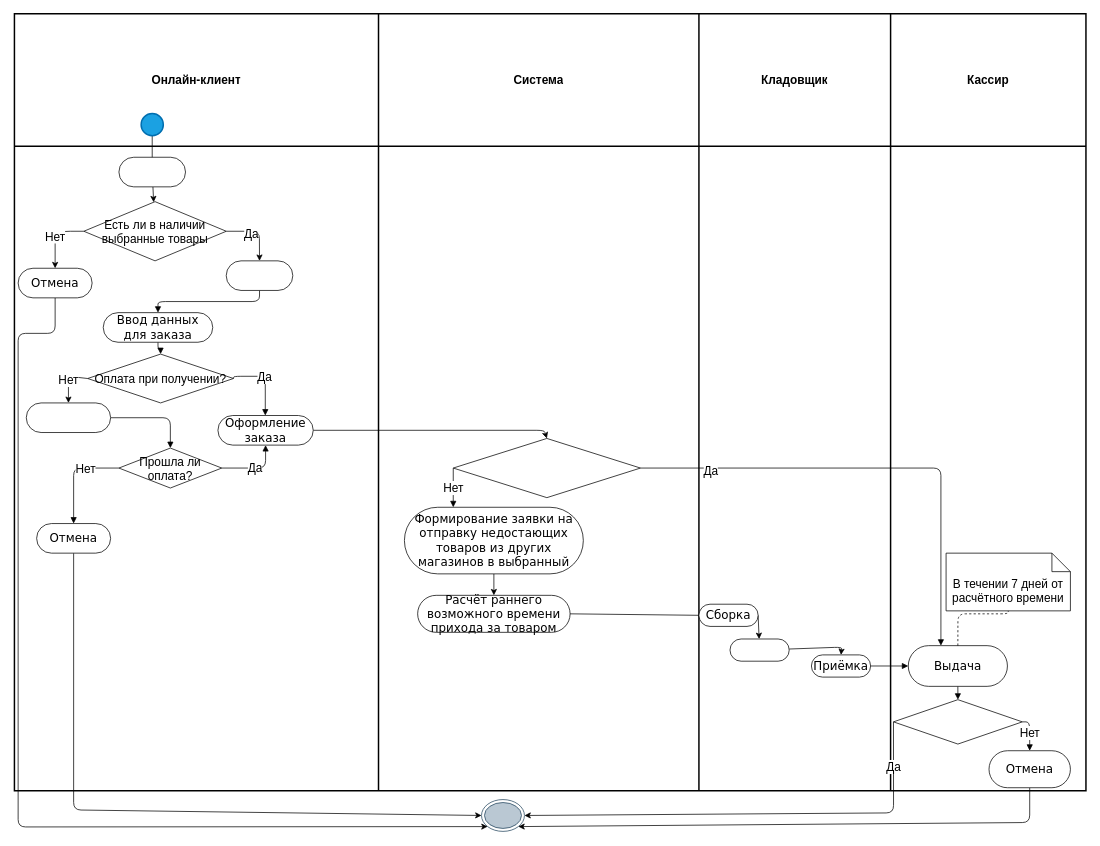
Image size: 1100x846. Some labels were removed from this diagram. The shapes that lost their labels are listed below. From the top down, each one's centre as x and y in pixels, then its label:
At (x=152, y=172): "Выбор товаров".
At (x=259, y=275): "Выбор магазина".
At (x=68, y=417): "Ввод данных для оплаты".
At (x=546, y=468): "В выбранном магазине достаточно выбранных товаров?".
At (x=759, y=649): "Отгрузка".
At (x=957, y=721): "Выдан заказ в срок?".
At (x=502, y=815): "Конец".
